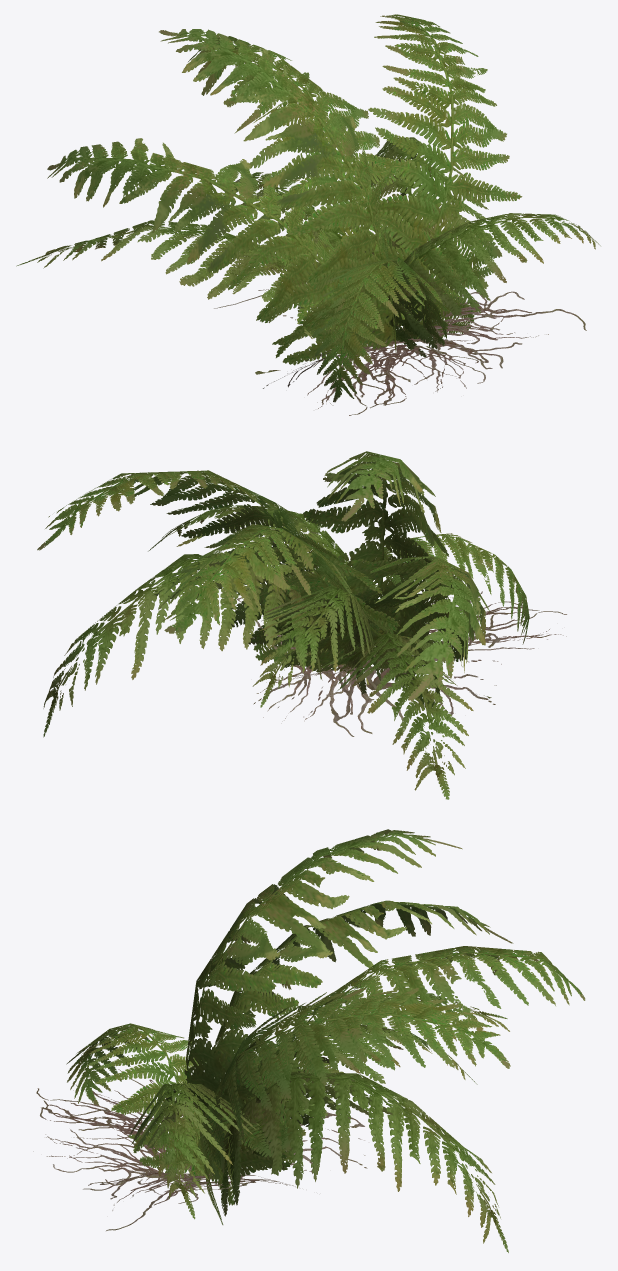
Rendered from SM_Fol_Fern1.fbx.
3 renders of one model, top to bottom at view 1: azimuth 30°, elevation 25°; view 2: azimuth 150°, elevation 25°; view 3: azimuth 270°, elevation 25°, orthographic. The views are drawn at different scales.
Visible parts, largest first — view 1: SM_Fol_Fern1; view 2: SM_Fol_Fern1; view 3: SM_Fol_Fern1.
Boxes of the visible parts, x1,y1,x2,y2 form: SM_Fol_Fern1: (16, 14, 600, 415); SM_Fol_Fern1: (37, 451, 566, 799); SM_Fol_Fern1: (33, 829, 585, 1252).
Bounding box in the file's own units: 98.38 × 108 × 67.96.
1 material, 1 textured.
